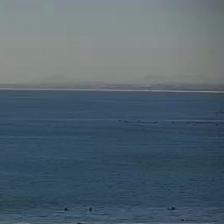surfer: (170, 206, 176, 210), (180, 218, 186, 222), (63, 207, 68, 211), (88, 207, 92, 211), (76, 222, 82, 224)
